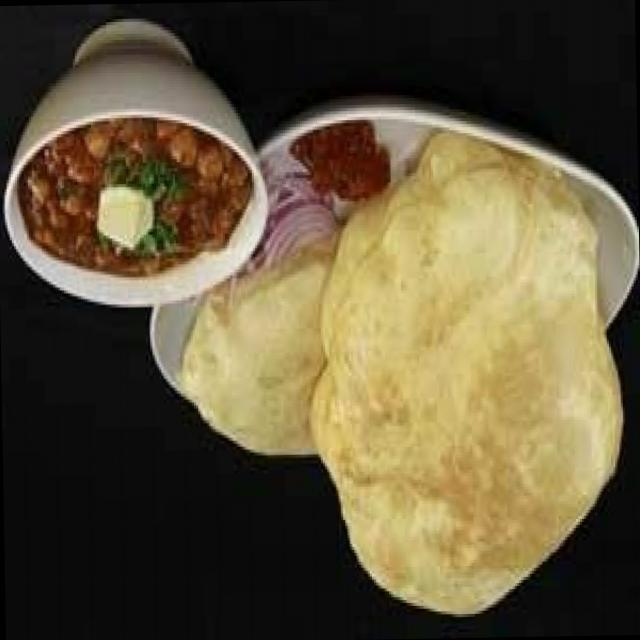Bhatura: (178, 128, 624, 622)
Chole: (16, 116, 250, 285)
